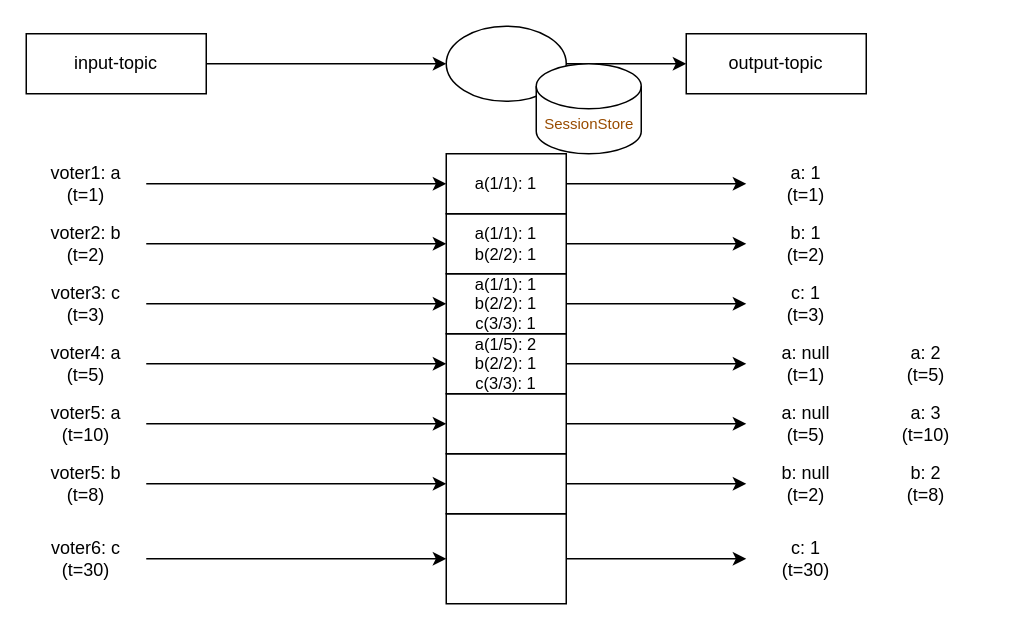
This 1013x630 diagram has some shape labels left out. Each missing label, with the centre of its shape:
a(1/10): 3 b(2/2): 1 c(3/3): 1: [505,423]
a(1/10): 3 b(2/8): 2 c(3/3): 1: [505,483]
a(1/10): 3 b(2/8): 2 c(3/3): 1 c(30/30):1: [505,558]
Agg Count: [505,63]
